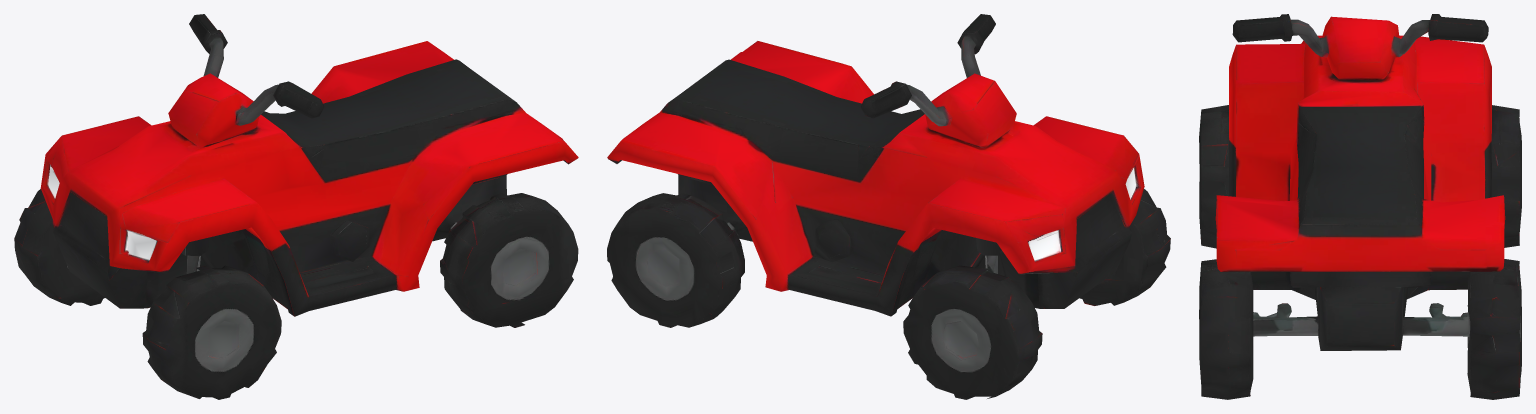
The model's file is crimson-quad.glb.
3 views of the same model, side by side, from view 1: azimuth 30°, elevation 25°; view 2: azimuth 150°, elevation 25°; view 3: azimuth 270°, elevation 25° (orthographic). The views are drawn at different scales.
Size of the model in its own units: 1.91 by 1.12 by 1.18.
1 material, 1 textured.
